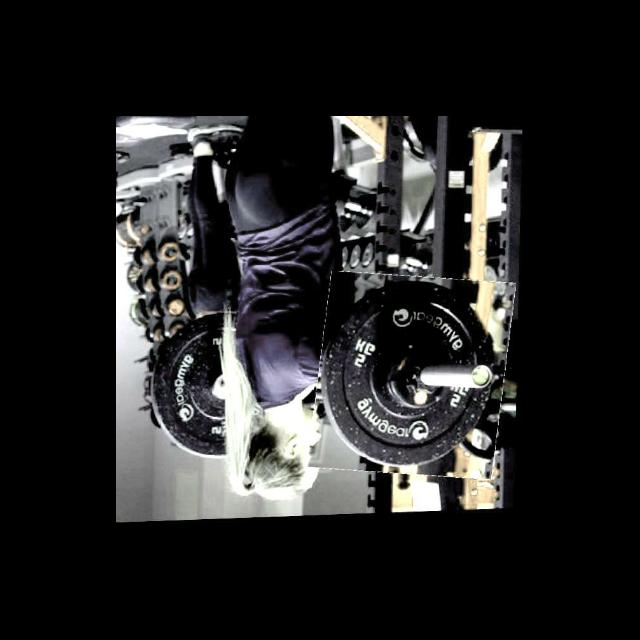barbell: (314, 273, 512, 484)
